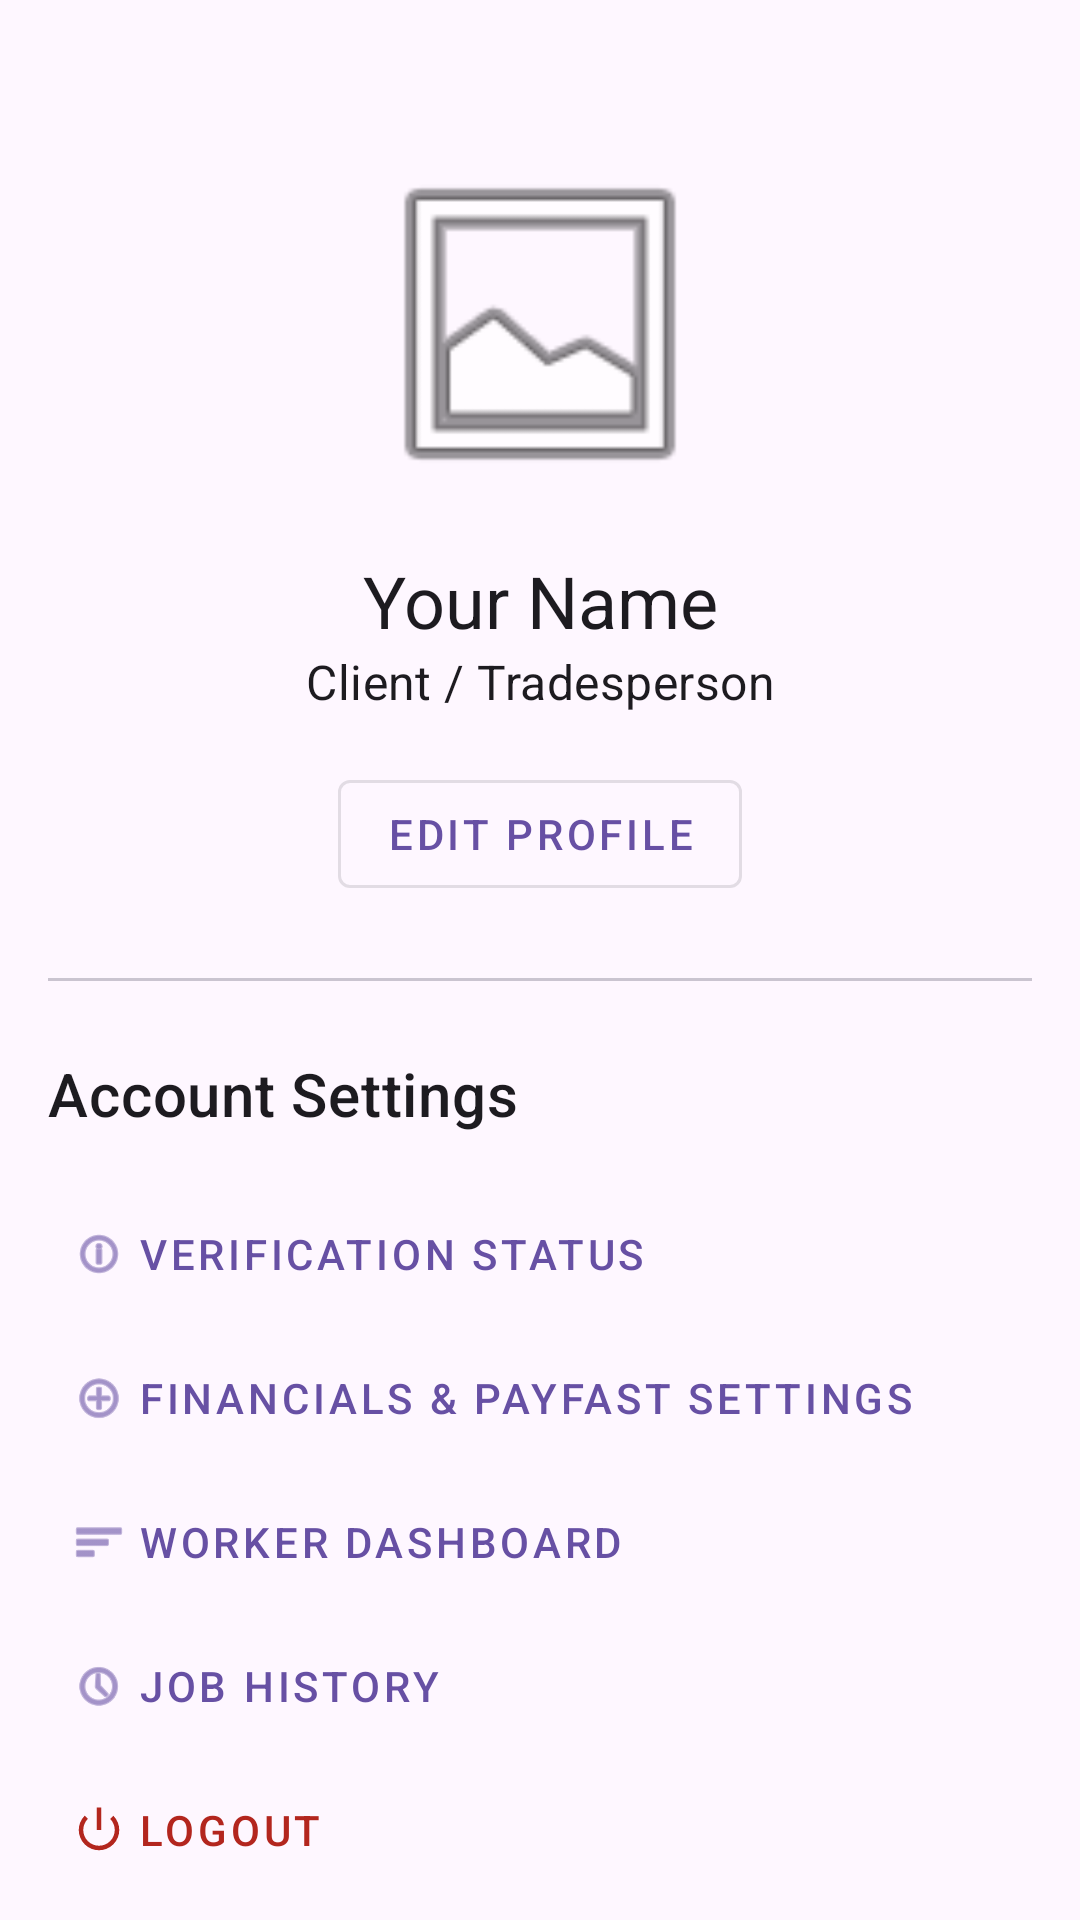

Named icons in this screenshot (1080 × 1920) and their bounding boxes, bbox(x1, y1, x2, y2):
gallery: bbox(404, 188, 676, 460)
